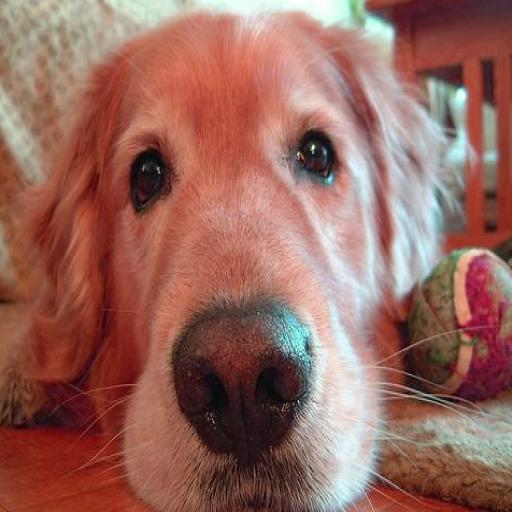dog_face: (40, 28, 430, 493)
